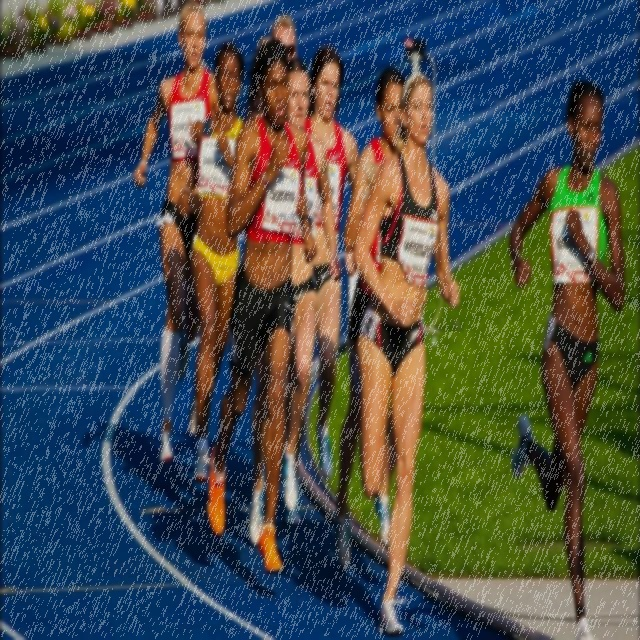pessoa: (505, 68, 632, 639), (351, 60, 464, 639), (205, 35, 318, 572), (244, 56, 345, 546), (130, 0, 224, 471), (334, 63, 406, 569), (176, 36, 248, 492), (295, 44, 368, 480), (268, 12, 298, 61)
